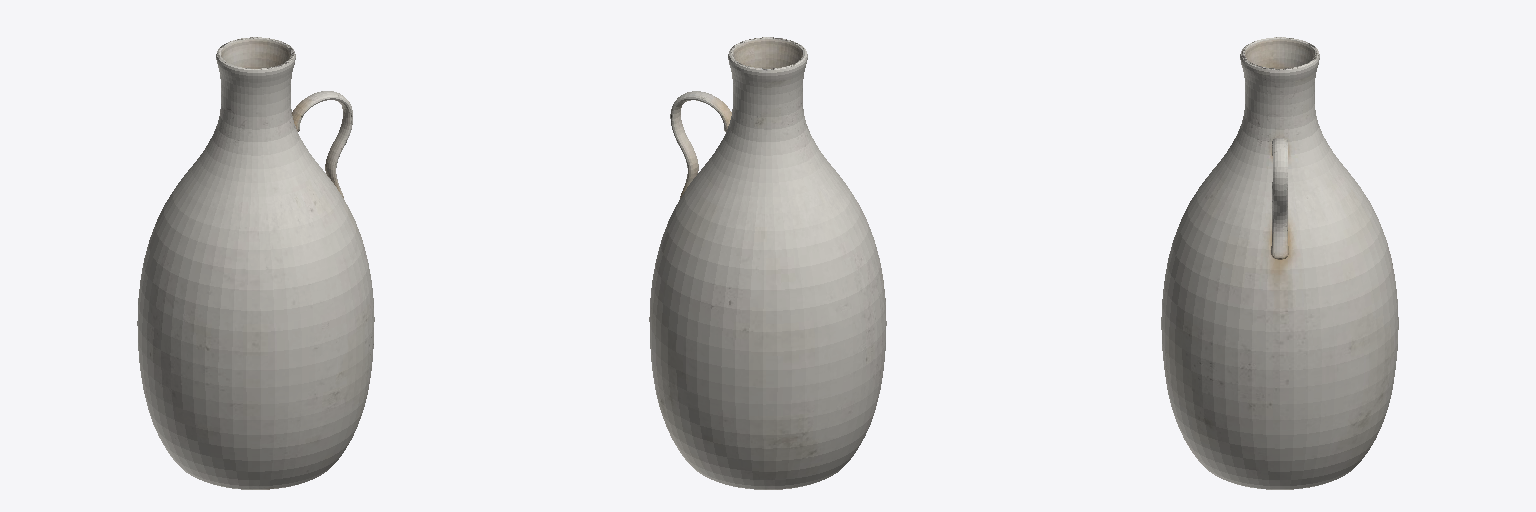
3 views of the same model, side by side, from view 1: azimuth 30°, elevation 25°; view 2: azimuth 150°, elevation 25°; view 3: azimuth 270°, elevation 25° (orthographic).
Visible parts, largest first — view 1: ceramic_vase_04; view 2: ceramic_vase_04; view 3: ceramic_vase_04.
Part boxes in pixels (x1,y1,x2,y2): ceramic_vase_04: (137,37,374,489); ceramic_vase_04: (649,37,886,489); ceramic_vase_04: (1161,37,1398,489).
Bounding box in the file's own units: 0.1811 × 0.3419 × 0.1811.
1 materials, 1 textured.